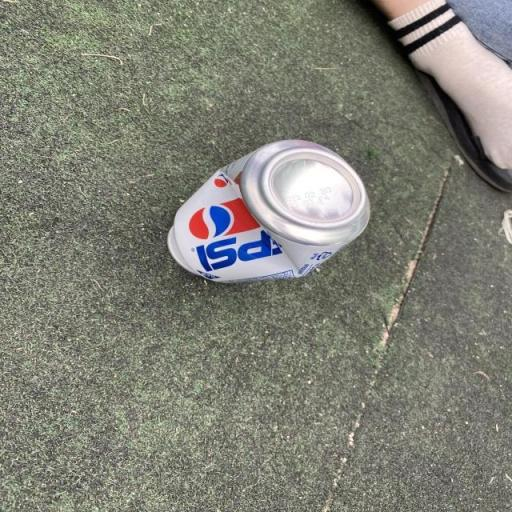metal: (138, 133, 398, 316)
